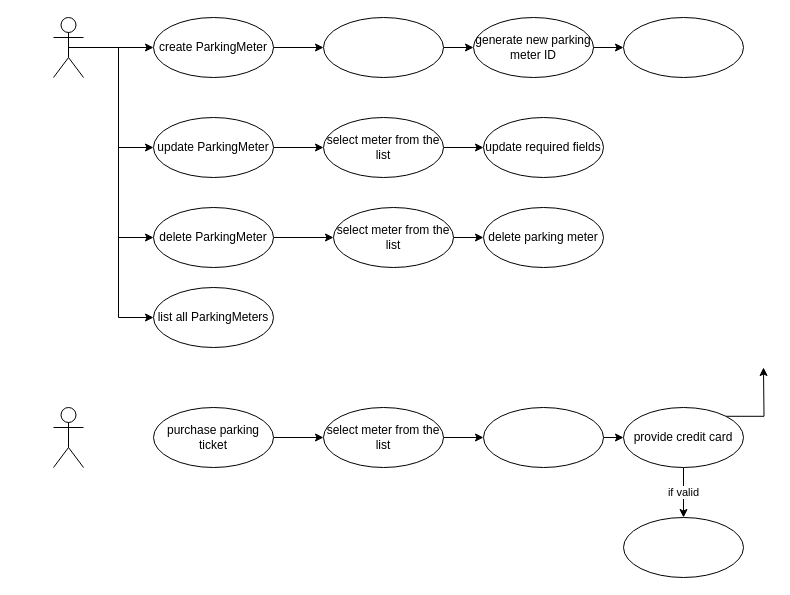
Image size: 790x595. Some labels were removed from this diagram. The centre of each missing label's shape, as x and y in pixels:
"add new parking meter to the list" goes at (x=683, y=47).
"Administrator" goes at (x=68, y=47).
"enter location" goes at (x=383, y=47).
"Parking Meter User" goes at (x=68, y=437).
"purchase ticket" goes at (x=683, y=547).
"select duration" goes at (x=543, y=437).
